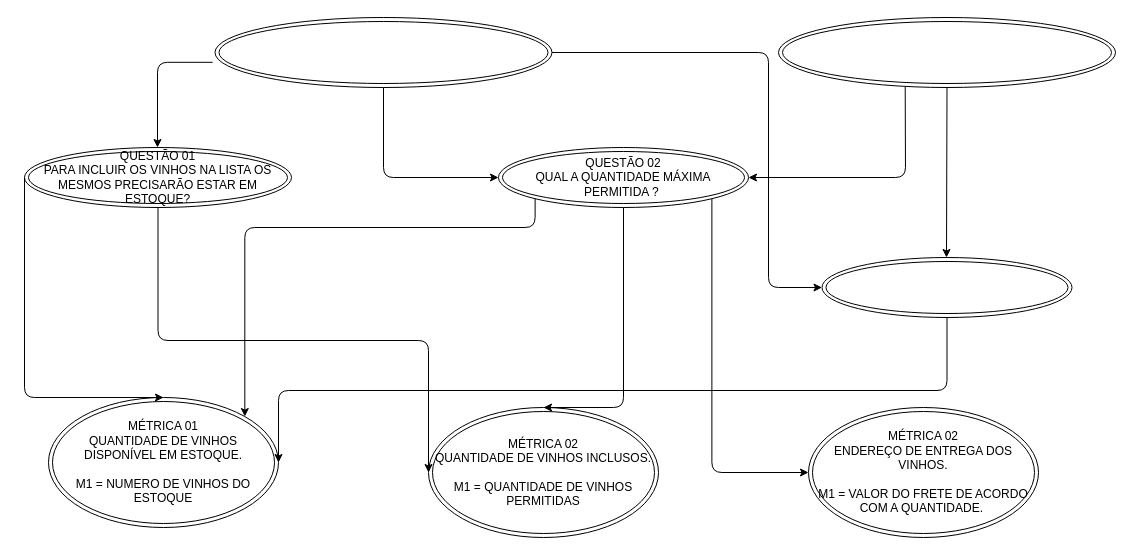
The diagram is 1133 pixels wide and 555 high, and some of its shapes have lost their labels. Each missing label, with the box of its shape:
OBJETIVO 01 INCLUIR OS VINHOS DESEJADOS NA LISTA DE FAVORITOS.: (214, 16, 552, 88)
OBJETIVO 02 INCLUIR OS VINHOS DESEJADOS NO CARRINHO DE COMPRAS: (778, 16, 1116, 88)
QUESTÃO 03 SERÃO ADICIONADOS PRODUTOS SOBE ENCOMENDA OU SOMENTE EM ESTOQUE?: (821, 256, 1072, 318)
